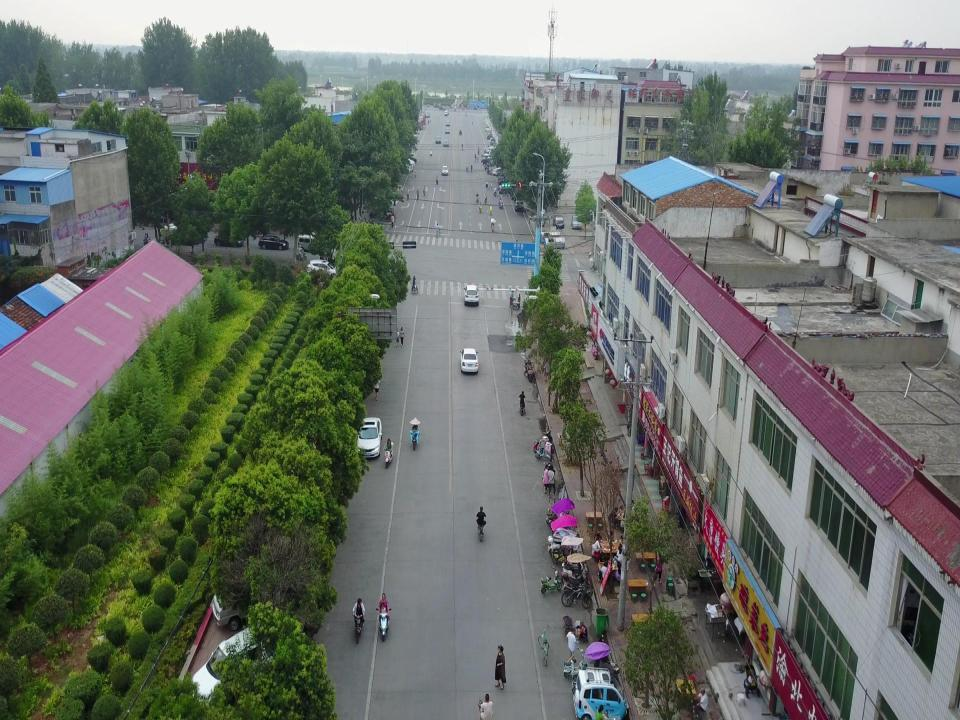car: (189, 630, 279, 706), (357, 417, 382, 460), (308, 258, 338, 281), (460, 348, 480, 375), (258, 235, 289, 251), (214, 231, 244, 246), (160, 223, 188, 239), (463, 284, 479, 306), (552, 214, 564, 229), (571, 215, 582, 230), (497, 183, 511, 194), (402, 152, 415, 163), (401, 158, 414, 168), (402, 155, 416, 164), (493, 166, 507, 175), (514, 200, 524, 212), (400, 163, 412, 172), (441, 165, 449, 176), (438, 105, 446, 111), (443, 140, 449, 147), (435, 136, 441, 143), (487, 132, 493, 139), (444, 109, 449, 117), (486, 127, 491, 135), (490, 137, 495, 145), (434, 102, 440, 107), (445, 127, 449, 134), (485, 126, 489, 132), (446, 121, 450, 126), (425, 113, 429, 117)
truck: (416, 119, 422, 131), (420, 115, 426, 124), (418, 117, 424, 126)
van: (213, 569, 288, 628), (298, 235, 322, 251)
